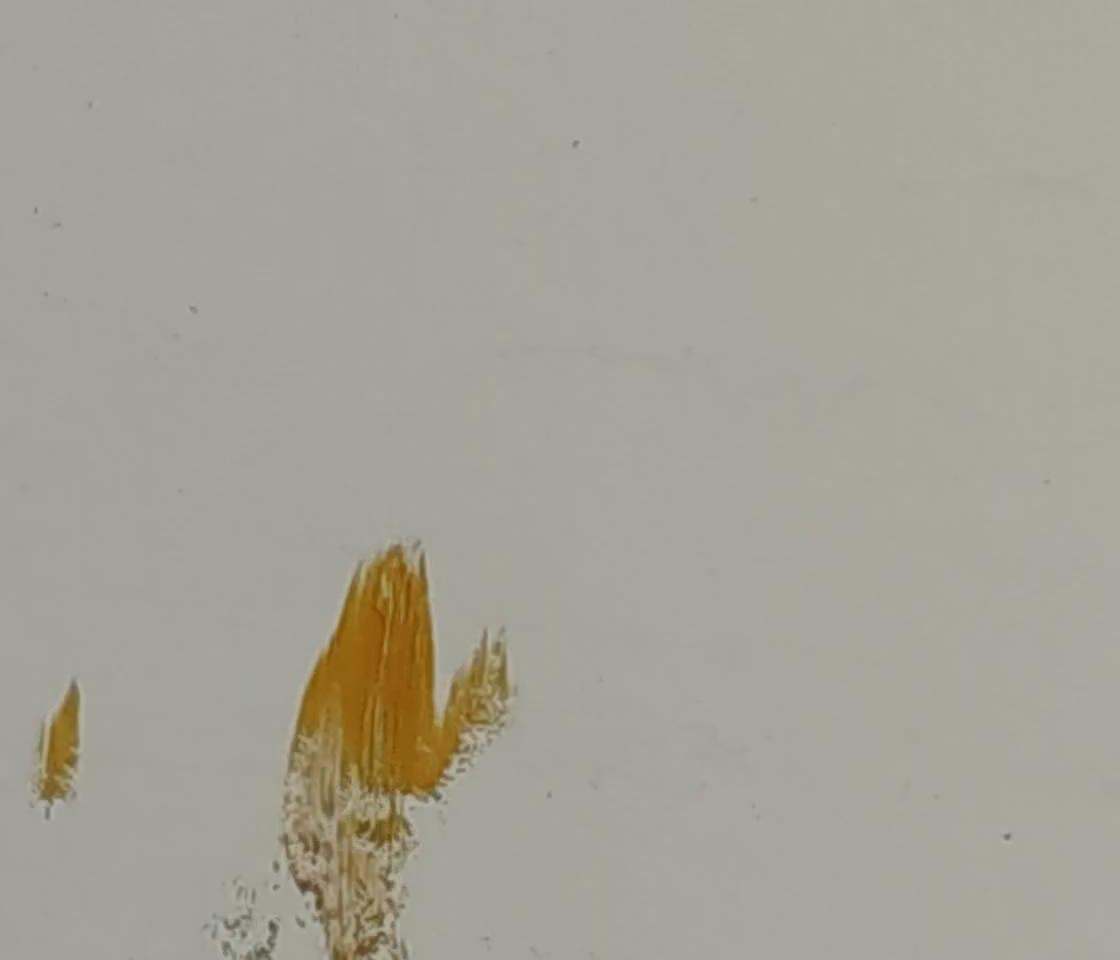rust: (314, 550, 496, 789), (37, 685, 88, 805)
